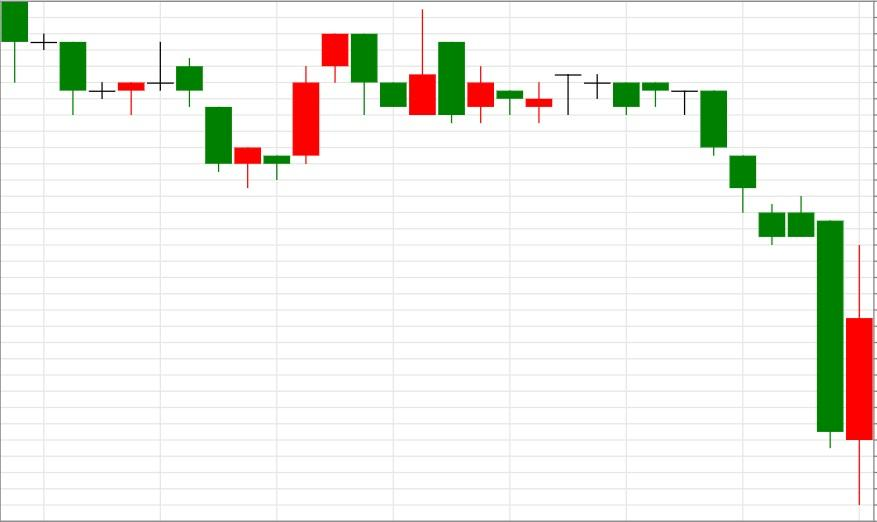bearish_engulfing_fall: (233, 33, 378, 189)
